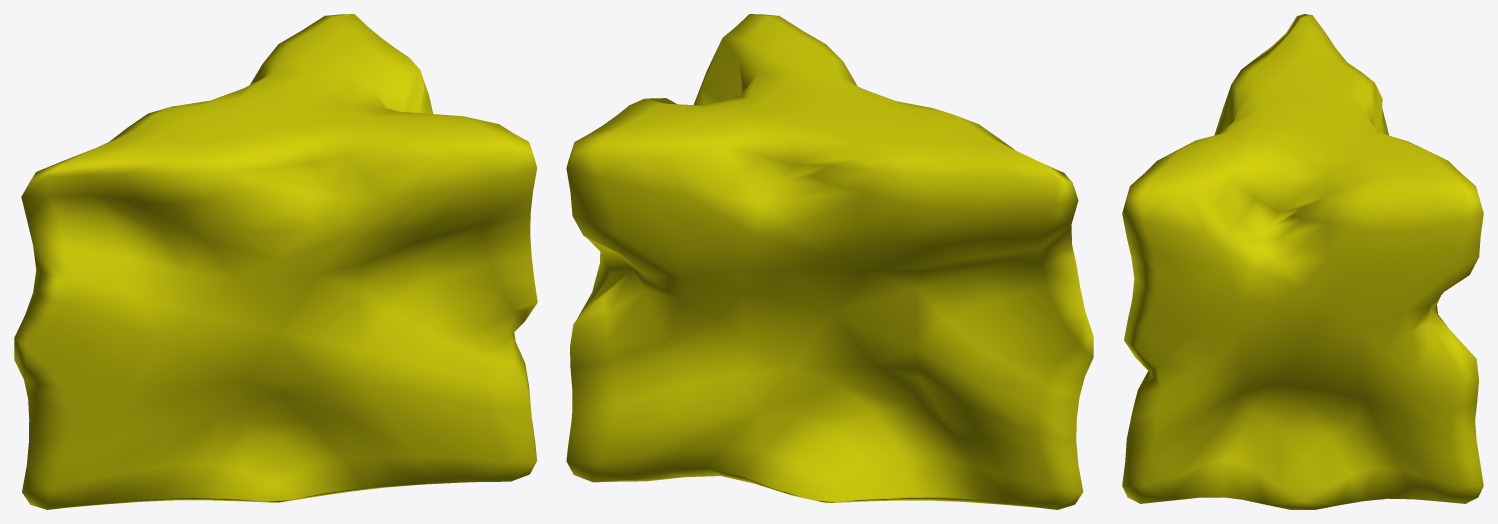
The model's file is fromage.fbx.
The picture shows the model from 3 angles, left to right: view 1: azimuth 30°, elevation 25°; view 2: azimuth 150°, elevation 25°; view 3: azimuth 270°, elevation 25°; orthographic projection. The views are drawn at different scales.
Parts seen in each view (by area): view 1: fromage; view 2: fromage; view 3: fromage.
Boxes of the visible parts, x1,y1,x2,y2 form: fromage: [14, 14, 537, 509]; fromage: [566, 14, 1093, 509]; fromage: [1122, 14, 1483, 509].
Size of the model in its own units: 1.35 by 1.02 by 1.04.
